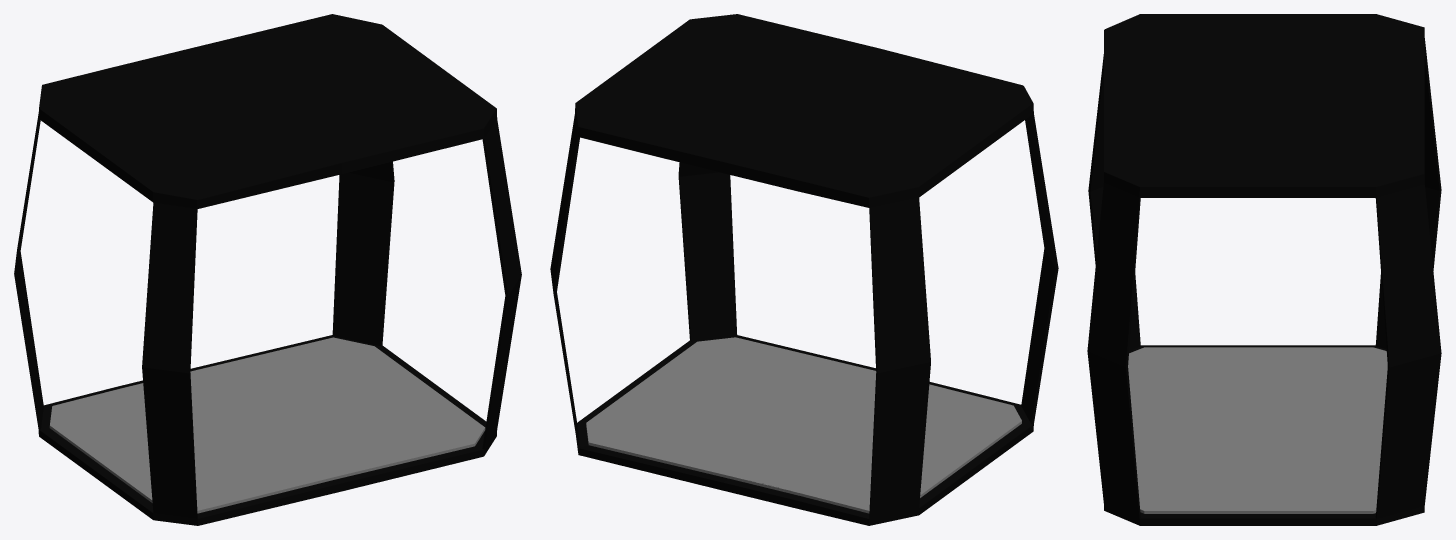
The model's file is Elevator.dae.
The picture shows the model from 3 angles, left to right: view 1: azimuth 30°, elevation 25°; view 2: azimuth 150°, elevation 25°; view 3: azimuth 270°, elevation 25°; orthographic projection. The views are drawn at different scales.
Parts seen in each view (by area): view 1: Elevator; view 2: Elevator; view 3: Elevator.
Boxes of the visible parts, <box> form: Elevator: <box>14,14,521,525</box>; Elevator: <box>550,14,1058,525</box>; Elevator: <box>1087,14,1441,525</box>.
Size of what is drawn, in the model's own units: 2.37 by 1.85 by 1.96.
